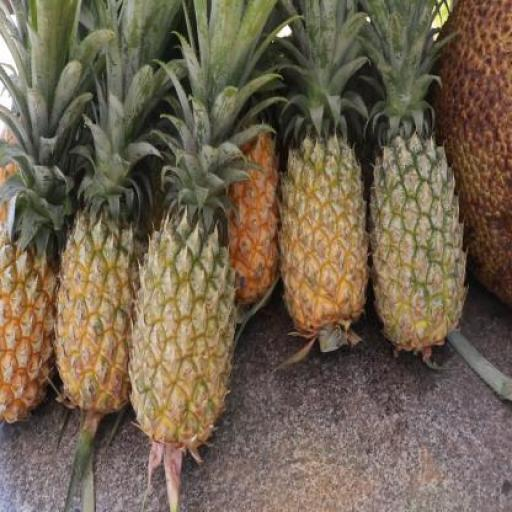------------------------------: (127, 224, 232, 447)
Pineapple - v8 v1: (55, 224, 148, 422), (280, 142, 366, 338), (0, 228, 62, 430)
